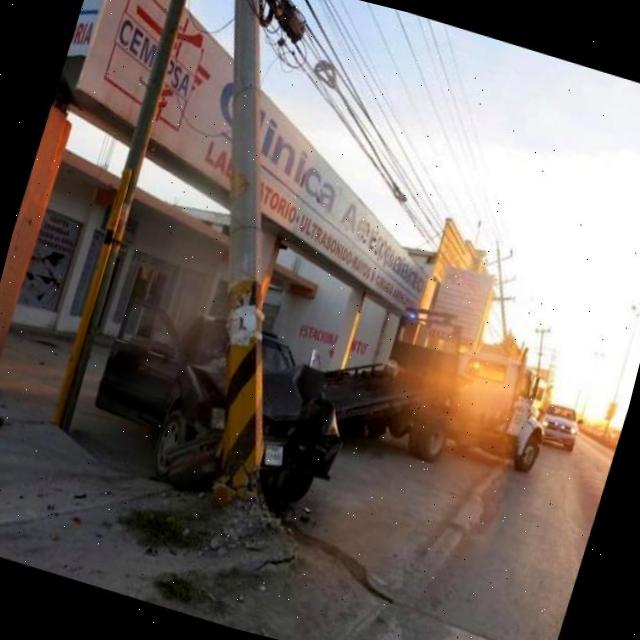Broken Pole: (214, 0, 264, 497)
